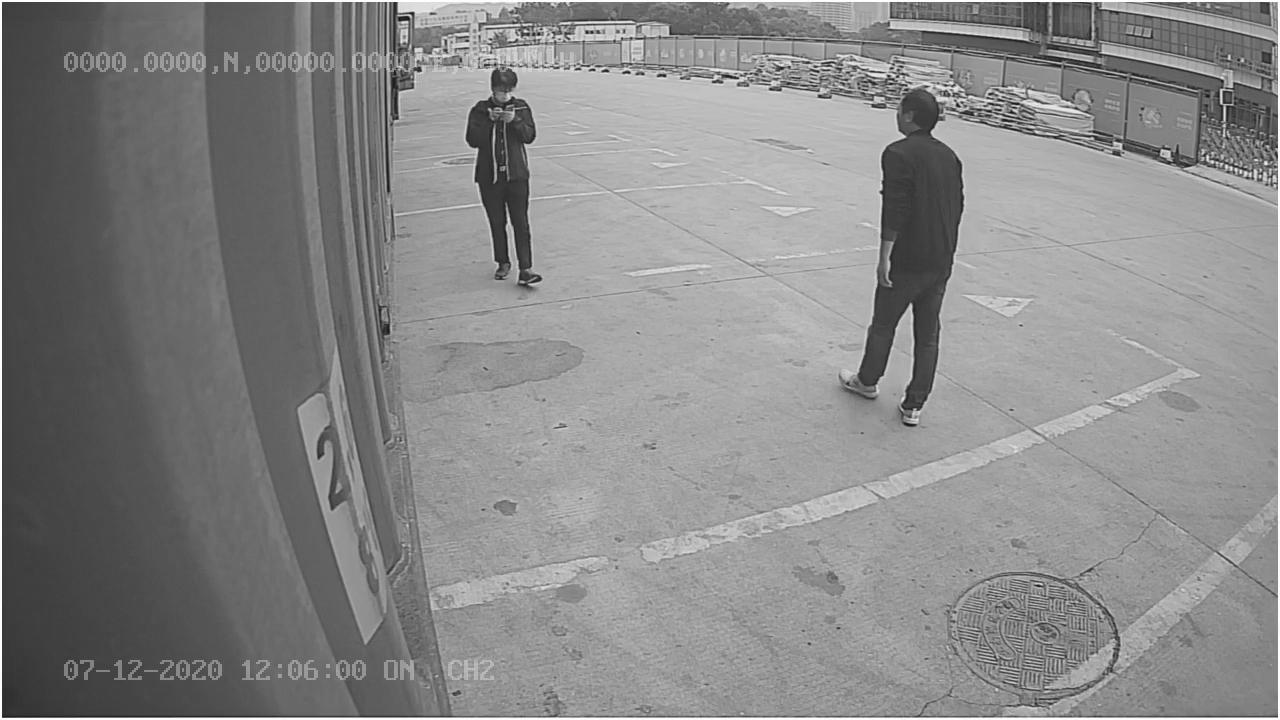person: (836, 86, 969, 423)
